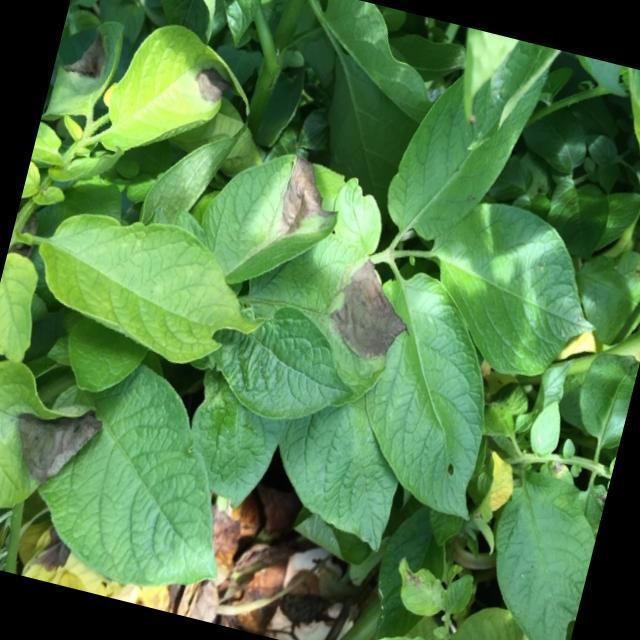Healthy Leaf: (20, 194, 272, 362), (424, 212, 606, 362)
